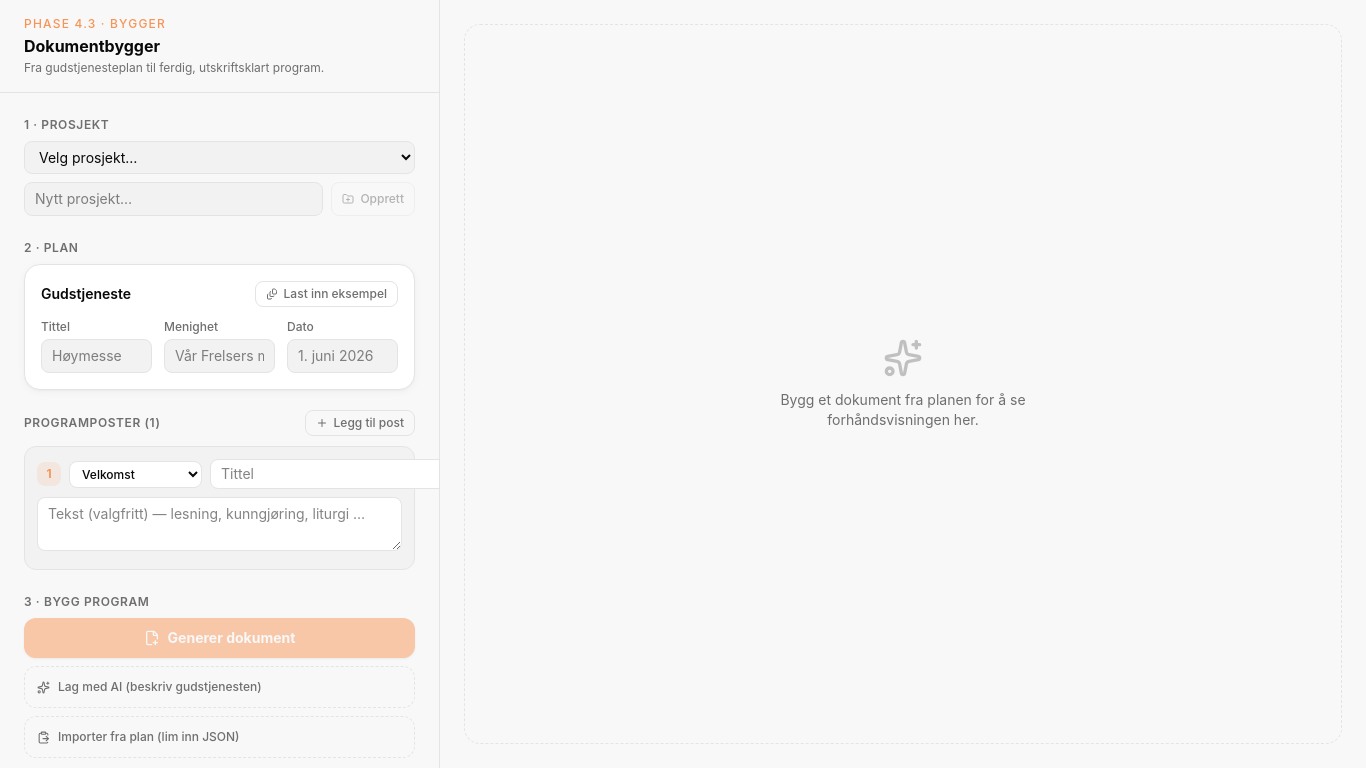
Test case: BuilderPage › compiles a free-text intent into a program via the AI prompt bar
Select "Sommer 2026" in the dropdown named "Velg prosjekt": (220, 158) [24,141,415,174]
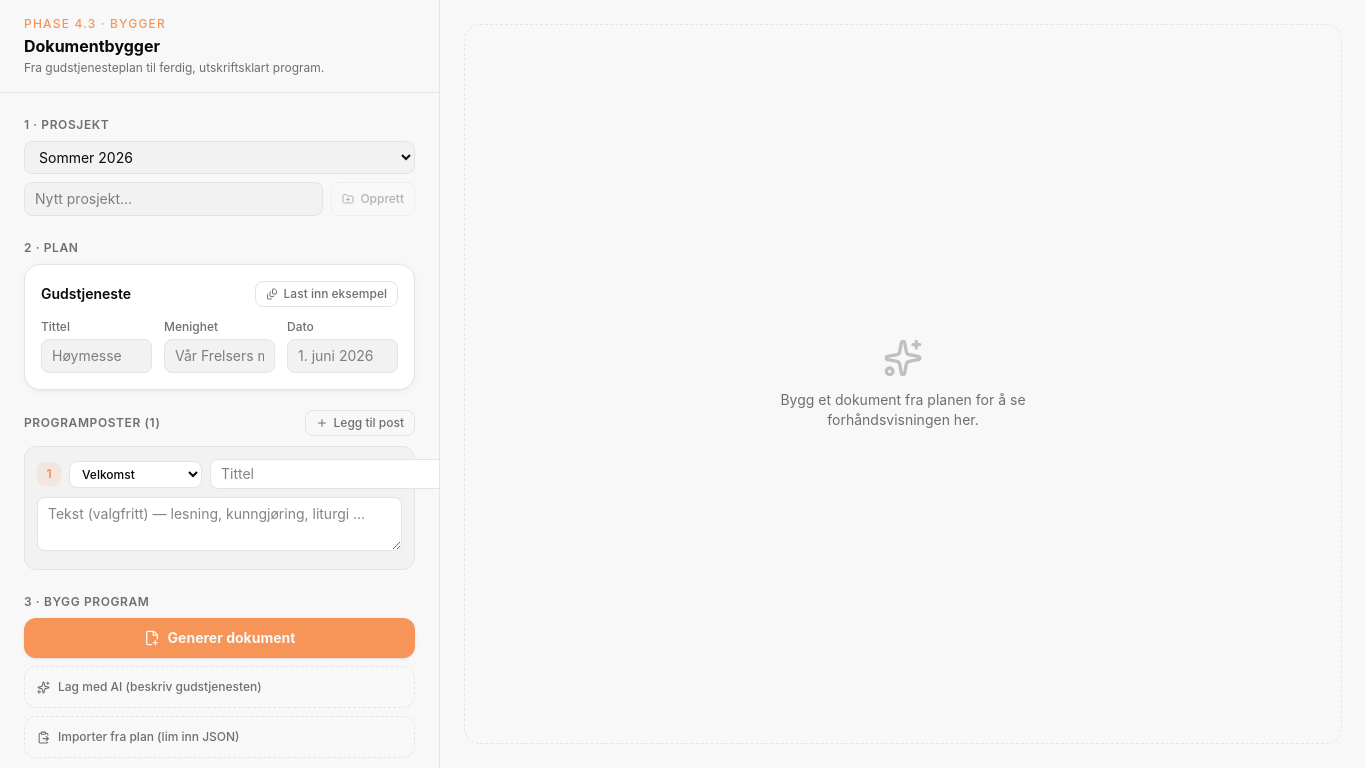
Click the button "Lag med AI (beskriv gudstjenesten)": (220, 687) [37,679,402,695]
(page scrolled)
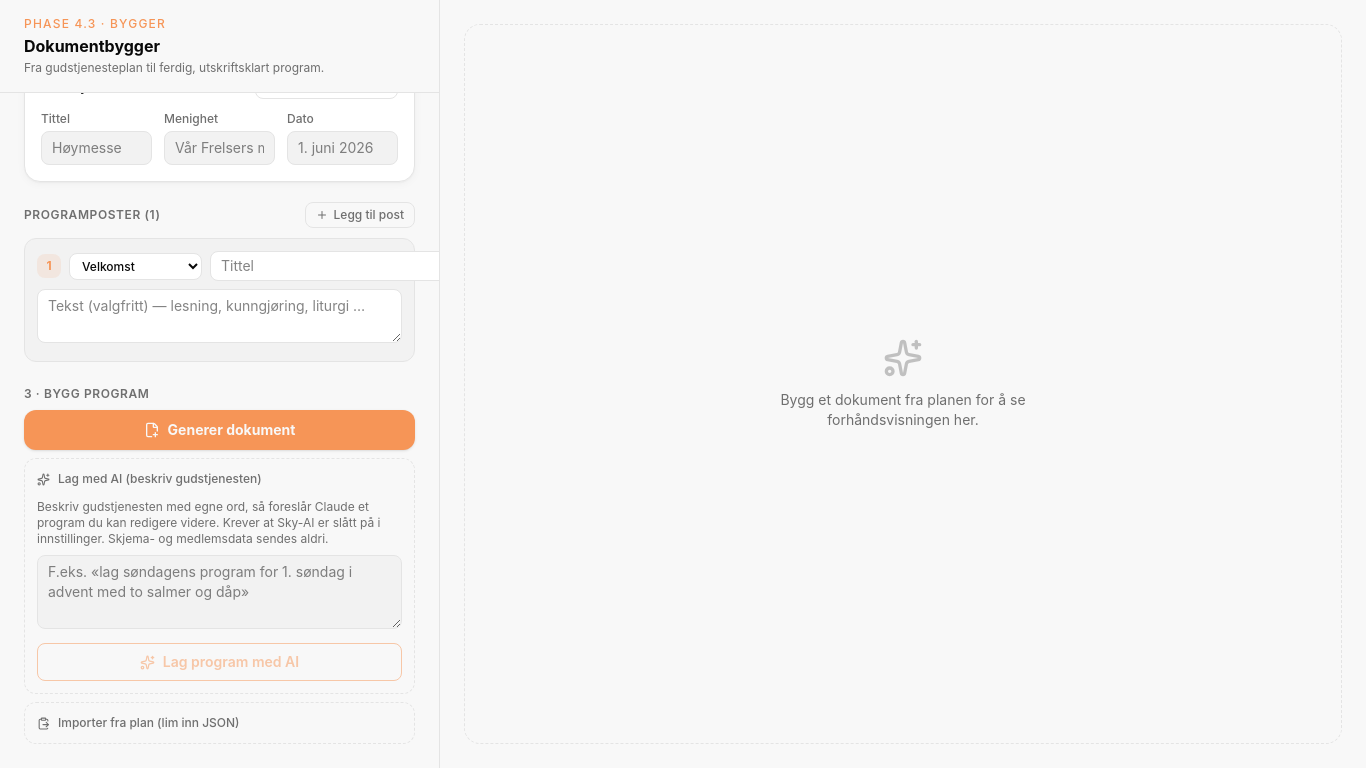
Replace the text in the text box named "AI-intensjon" with "lag søndagens program for 1. søndag i advent med to salmer og dåp": (220, 592) [37,555,402,629]
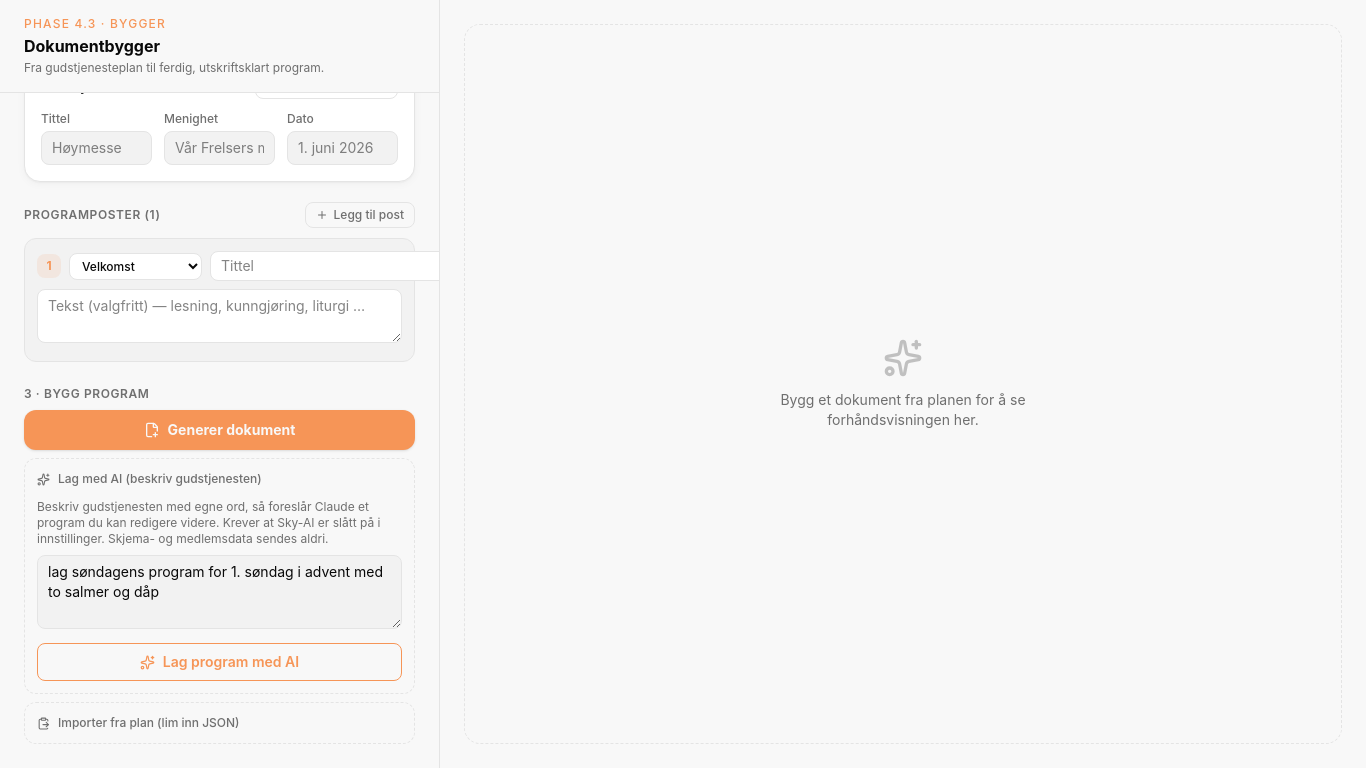
Click the button "Lag program med AI": (220, 662) [37,643,402,681]
(page scrolled)
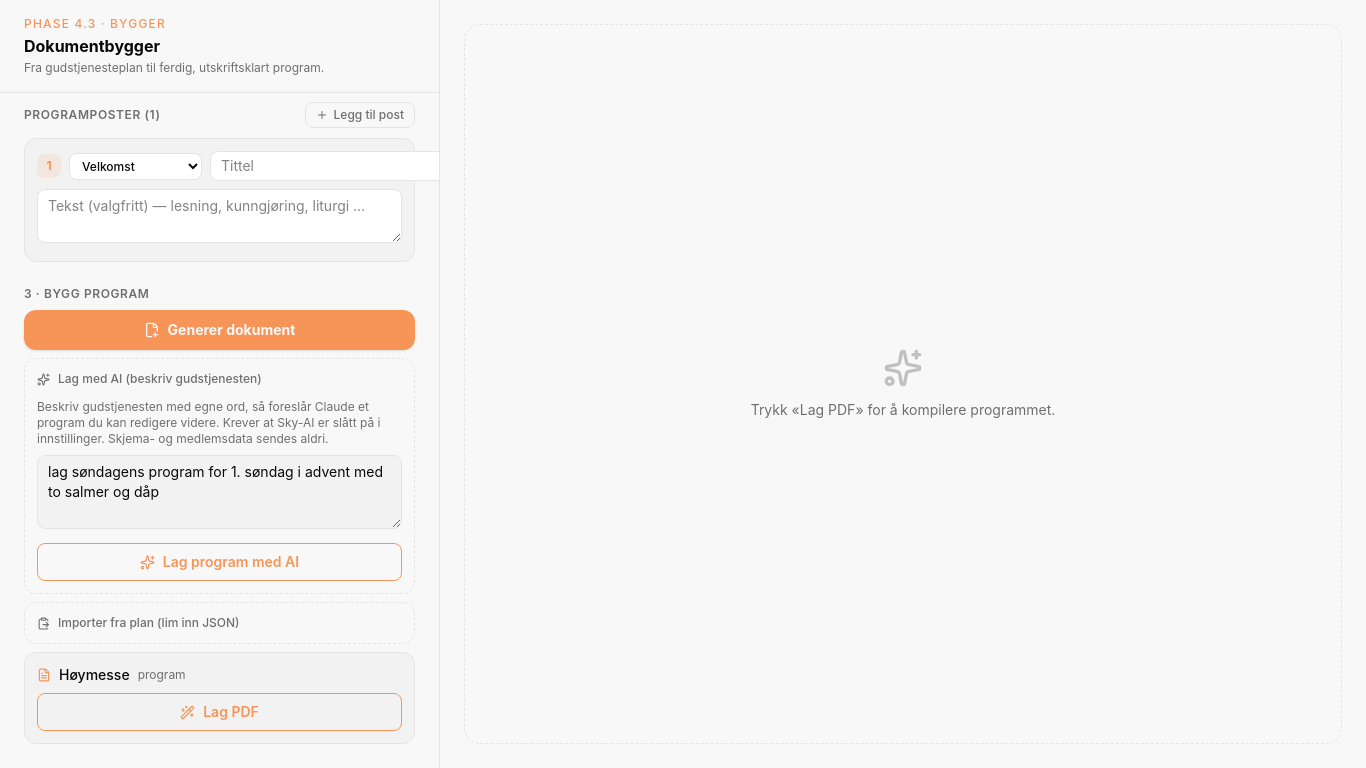
Expected: the button "Lag PDF" is shown, [37,693,402,731]
